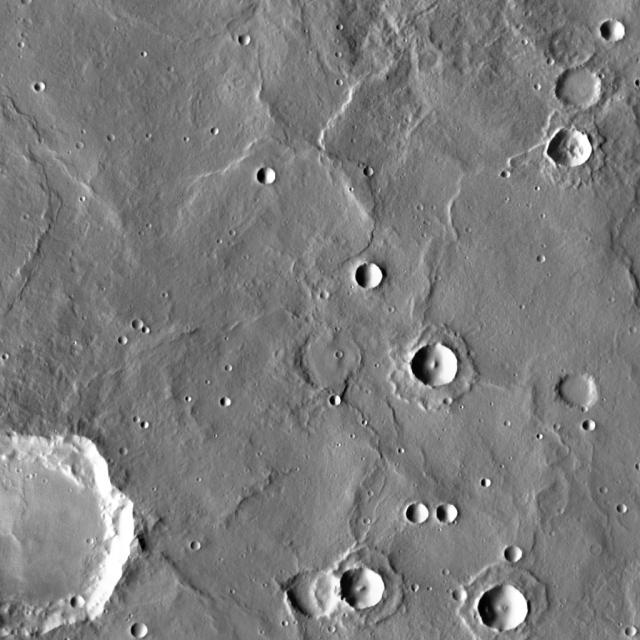crater: (0, 429, 134, 639), (298, 330, 362, 390), (289, 566, 341, 615), (481, 584, 528, 629), (413, 342, 459, 386), (558, 65, 604, 108), (340, 565, 386, 607), (549, 26, 595, 68), (549, 126, 593, 166), (557, 368, 600, 408), (356, 262, 384, 288), (601, 18, 627, 42), (408, 502, 431, 522), (438, 502, 459, 522), (506, 545, 524, 562), (258, 167, 276, 184), (131, 623, 148, 639), (71, 594, 85, 608), (454, 587, 468, 600), (584, 418, 598, 430), (625, 625, 637, 636), (132, 317, 144, 328), (240, 36, 252, 46), (220, 396, 232, 406), (191, 540, 202, 550), (618, 502, 628, 512), (36, 81, 46, 91), (331, 395, 341, 405), (365, 165, 375, 175), (502, 167, 512, 177), (482, 477, 492, 486), (119, 446, 128, 456), (141, 422, 150, 431), (321, 290, 331, 298), (444, 396, 454, 404), (601, 484, 610, 492), (155, 192, 164, 200), (212, 128, 220, 136), (113, 330, 121, 338), (77, 140, 85, 148), (226, 364, 234, 372), (329, 623, 337, 631), (548, 57, 556, 64), (142, 327, 150, 334), (330, 342, 337, 350), (538, 254, 546, 261), (414, 582, 422, 589), (436, 560, 443, 568), (222, 222, 229, 229), (101, 126, 109, 132), (127, 410, 134, 416)
